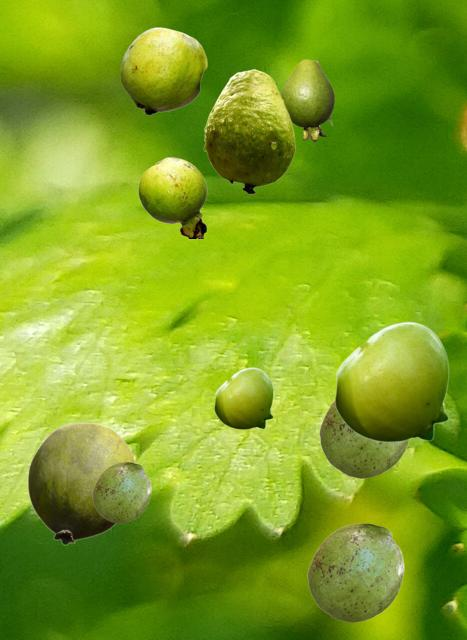guava: (334, 321, 448, 441), (27, 422, 136, 544), (203, 69, 294, 193), (307, 523, 403, 621), (120, 27, 206, 114), (319, 401, 409, 477), (138, 157, 206, 237), (281, 59, 333, 140), (214, 367, 272, 428), (92, 462, 150, 522)
